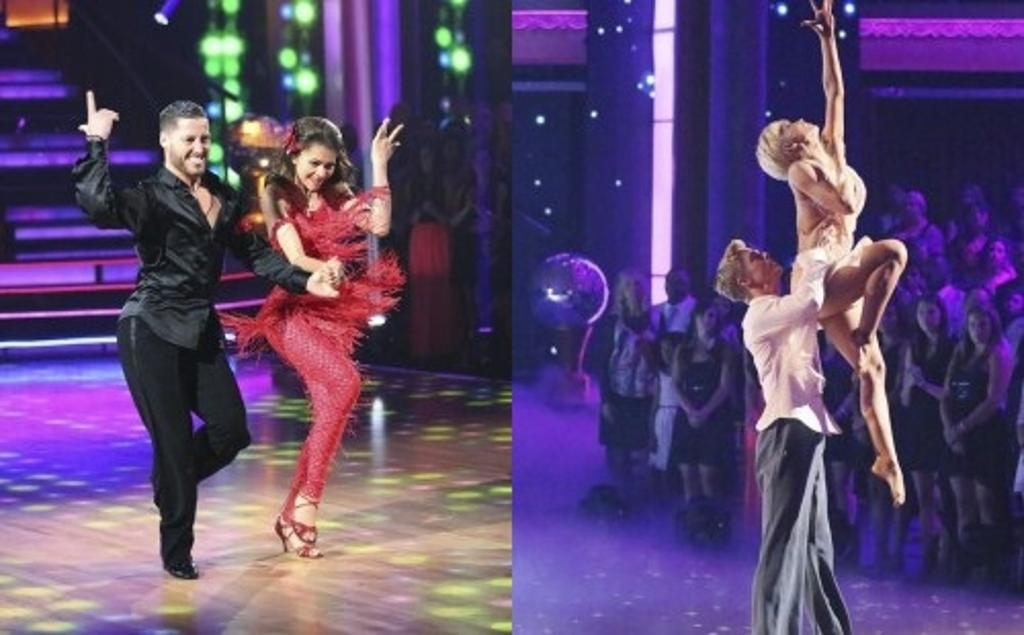face: (166, 118, 210, 173), (296, 150, 337, 190), (739, 247, 783, 281), (775, 117, 819, 141), (916, 301, 940, 331), (967, 316, 989, 345), (873, 303, 894, 333), (696, 304, 716, 329), (900, 267, 919, 290), (622, 276, 640, 299), (668, 275, 685, 299), (986, 243, 1003, 266), (1003, 293, 1020, 316), (904, 197, 919, 217)
